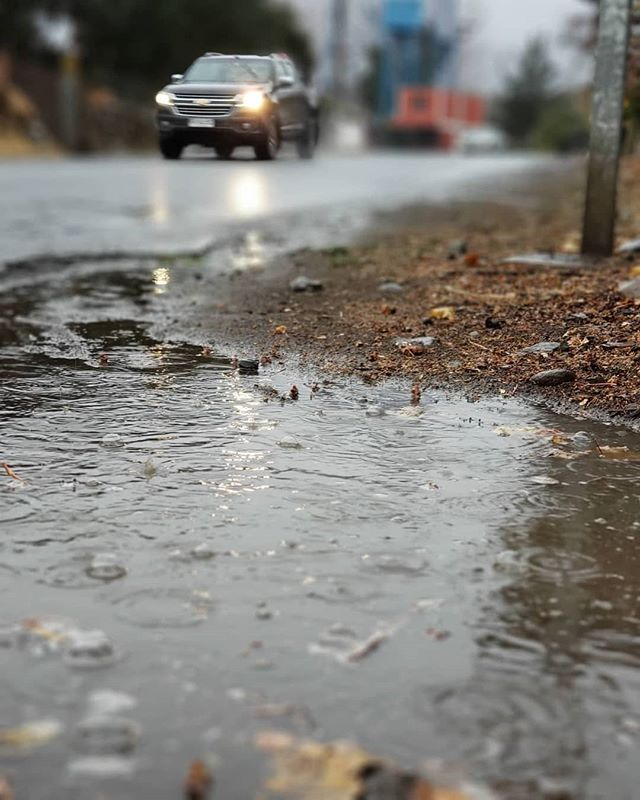car: (144, 46, 325, 152)
